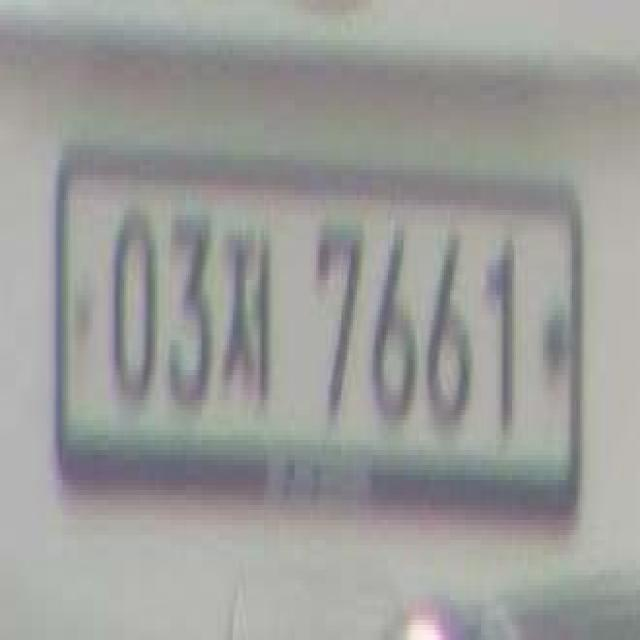illegal_plate: (56, 137, 591, 524)
